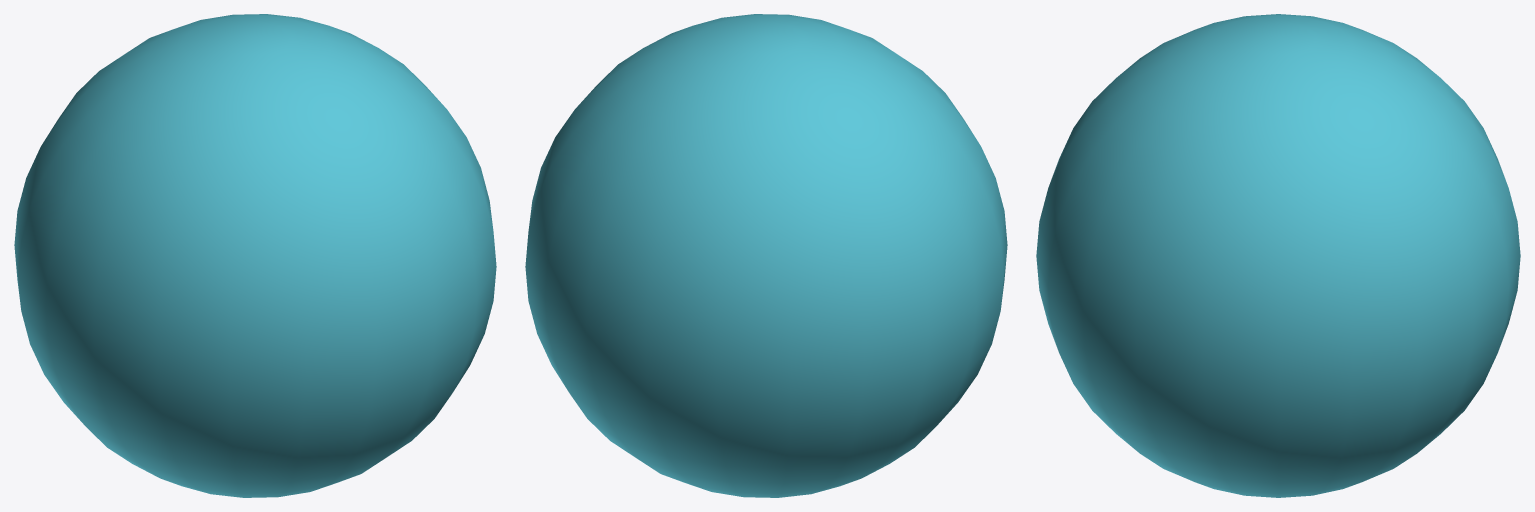
File: marble_test.glb
The picture shows the model from 3 angles, left to right: view 1: azimuth 30°, elevation 25°; view 2: azimuth 150°, elevation 25°; view 3: azimuth 270°, elevation 25°; orthographic projection.
Parts seen in each view (by area): view 1: Object_3; view 2: Object_3; view 3: Object_3.
Boxes of the visible parts, <box> form: Object_3: <box>14,14,496,497</box>; Object_3: <box>525,14,1007,497</box>; Object_3: <box>1036,14,1520,497</box>.
Bounding box in the file's own units: 2 × 2 × 2.
